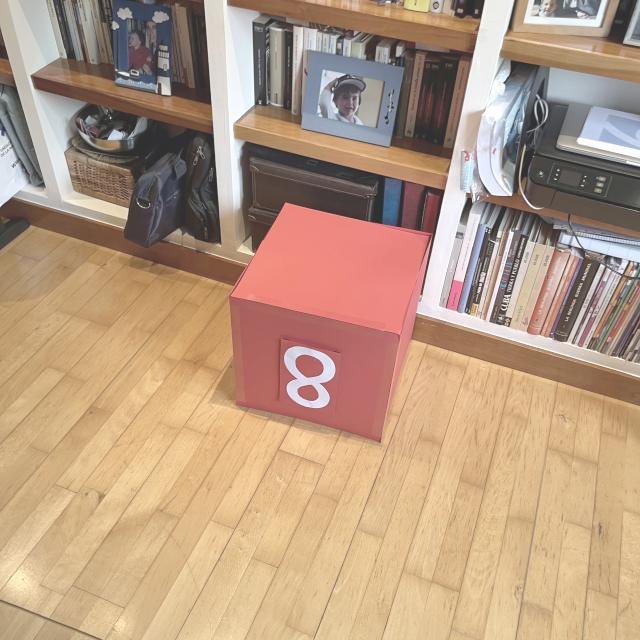box: (225, 200, 434, 444)
